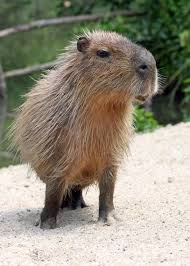capivara: (9, 29, 160, 229)
